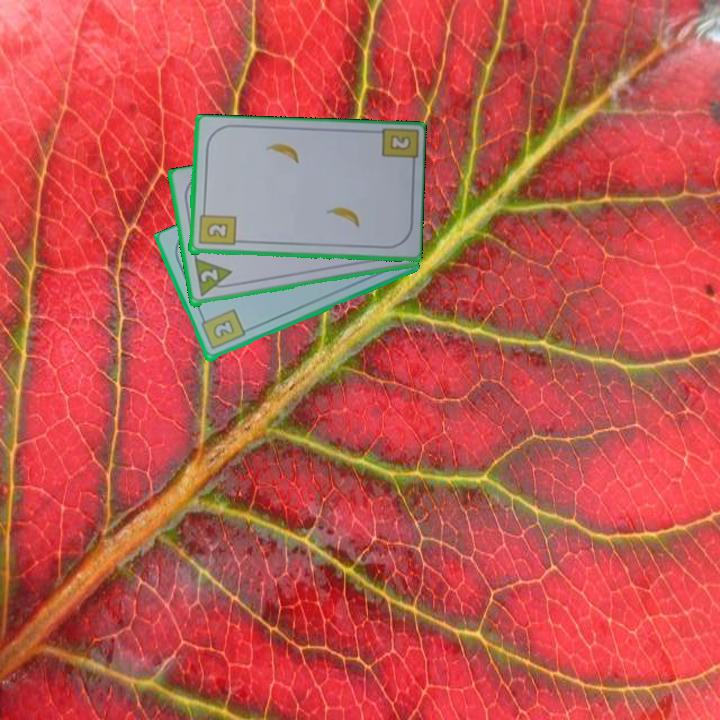2b: (197, 306, 248, 353), (195, 205, 238, 249), (386, 132, 414, 153)
2p: (197, 266, 220, 285)
